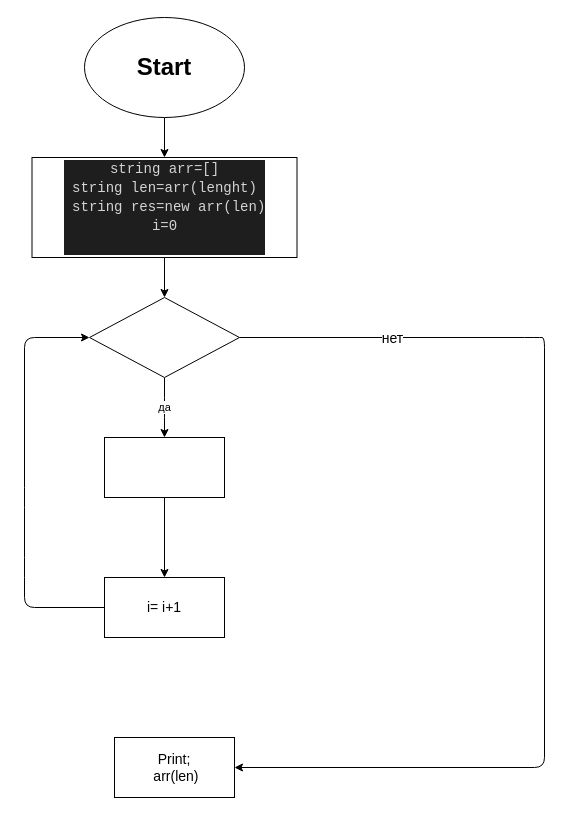
The diagram is 570 pixels wide and 815 high, and some of its shapes have lost their labels. The centre of each missing label's shape, as x and y in pixels:
i<=3: pixel 164 337
res[i]=arr(len): pixel 164 467
